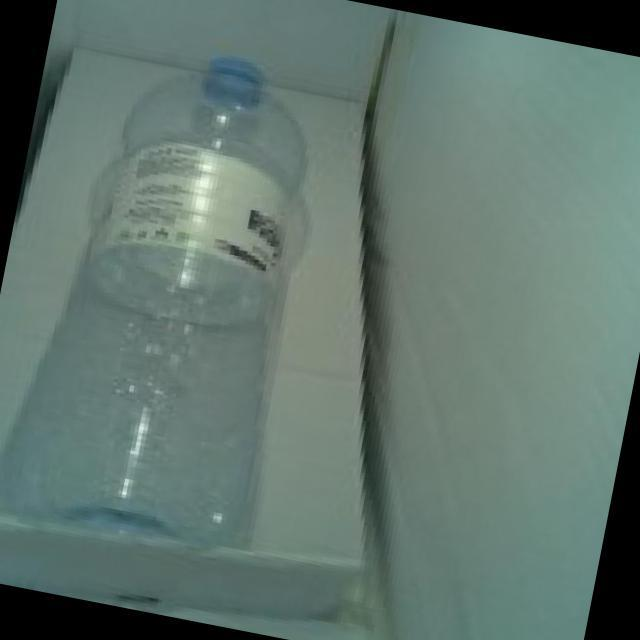good: (0, 10, 387, 592)
